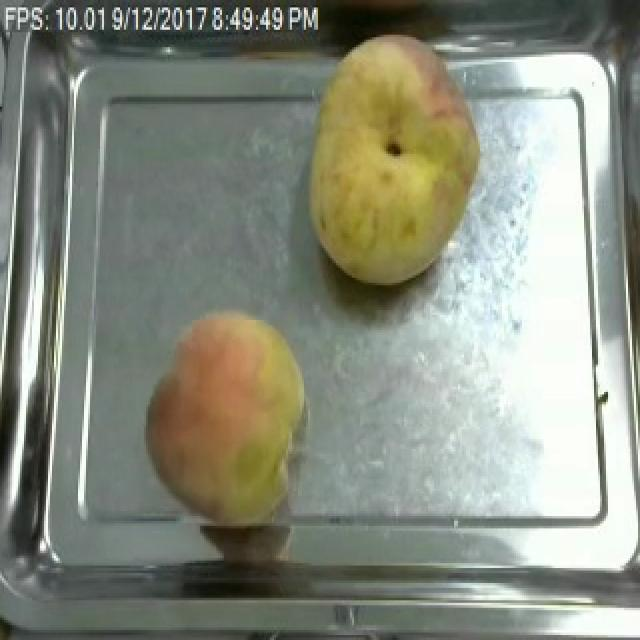Fruit: (294, 22, 490, 293), (142, 303, 314, 528)
